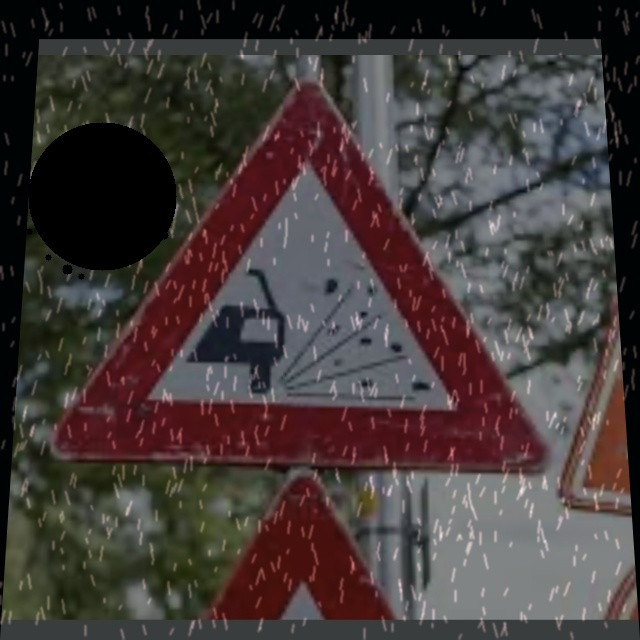Loose_Gravel: (67, 81, 549, 470)
